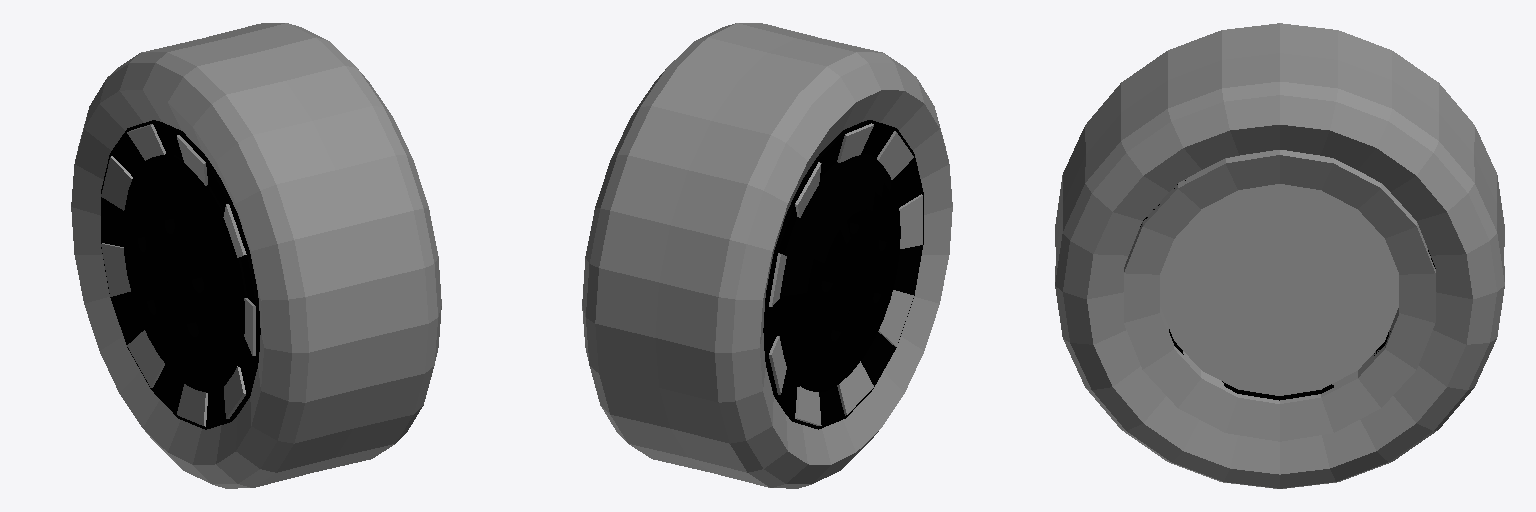
Rendered from llanta.obj.
3 views of the same model, side by side, from view 1: azimuth 30°, elevation 25°; view 2: azimuth 150°, elevation 25°; view 3: azimuth 270°, elevation 25° (orthographic).
Parts seen in each view (by area): view 1: Torus01, Sphere01, Tube01, Tube02; view 2: Torus01, Sphere01, Tube01, Tube02; view 3: Torus01, Cylinder01, Tube02, Tube01.
Boxes of the visible parts, x1,y1,x2,y2 form: Torus01: [71, 23, 441, 488]; Sphere01: [123, 153, 247, 393]; Tube01: [101, 120, 260, 429]; Tube02: [101, 124, 255, 426]; Torus01: [582, 23, 952, 488]; Sphere01: [776, 153, 900, 392]; Tube01: [763, 120, 923, 429]; Tube02: [769, 123, 922, 425]; Torus01: [1055, 23, 1504, 488]; Cylinder01: [1160, 184, 1398, 395]; Tube02: [1124, 150, 1435, 441]; Tube01: [1140, 180, 1435, 400].
Size of the model in its own units: 55.91 by 122 by 122.